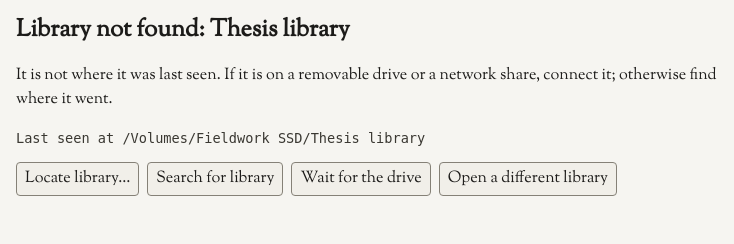
LibraryNotFound › an error other than 'not there yet' is shown and the wait stops
Click the button "Wait for the drive". click: (361, 179)
box: [292, 162, 431, 196]
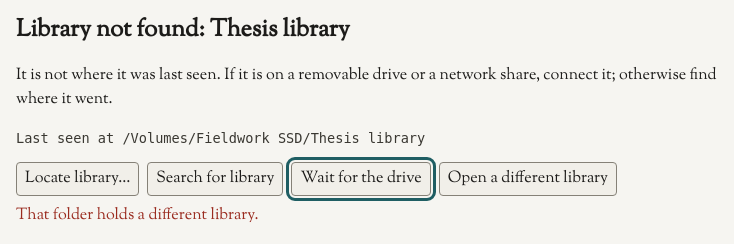
Now the message reads "That folder holds a different library.", box [16, 204, 258, 227]
